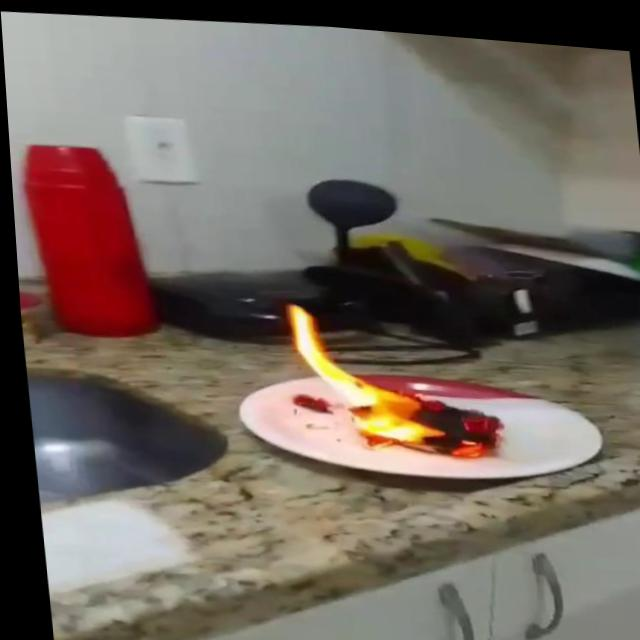Fire: (275, 289, 510, 465)
